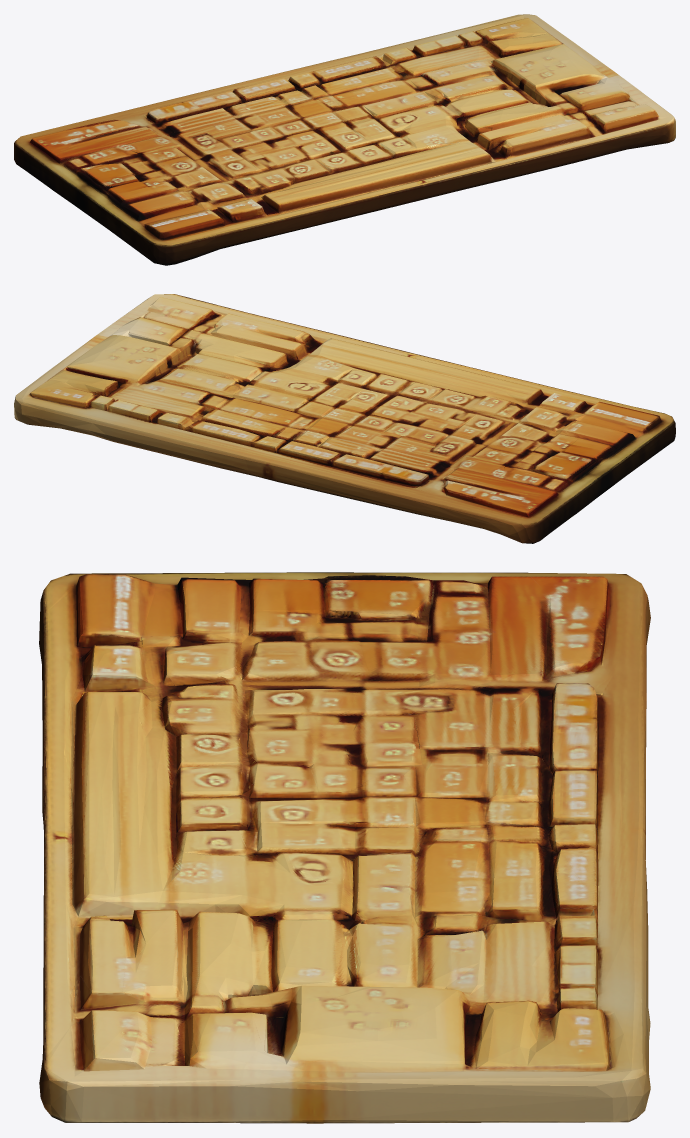
Rendered from bamboo-keyboard-rustic.jpeg.glb.
The picture shows the model from 3 angles, top to bottom: view 1: azimuth 30°, elevation 25°; view 2: azimuth 150°, elevation 25°; view 3: azimuth 270°, elevation 25°; orthographic projection. The views are drawn at different scales.
Visible parts, largest first — view 1: world; view 2: world; view 3: world.
Part boxes in pixels (x1,y1,x2,y2): world: (14, 14, 675, 265); world: (14, 294, 675, 543); world: (39, 572, 650, 1123).
Bounding box in the file's own units: 0.9941 × 0.059 × 0.5017.
Materials: 1 (1 with a texture image).
